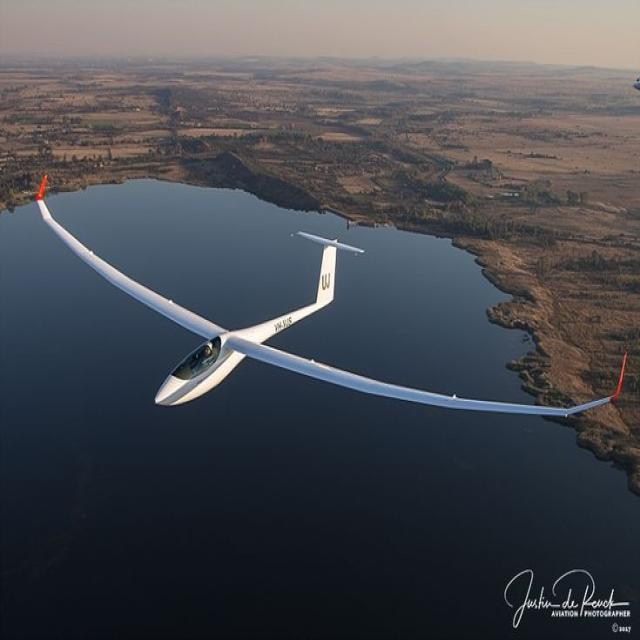iha: (28, 171, 623, 423)
